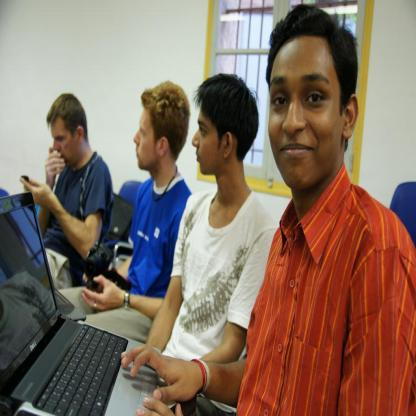board: (0, 192, 161, 415), (53, 286, 87, 323)
